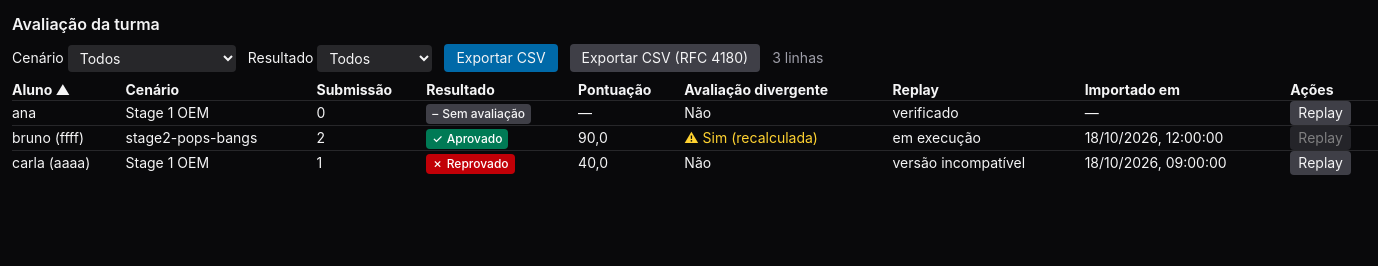
Test: ClassGradeTable — erros › falha no replay aparece sobre a tabela
The image size is (1378, 266).
expect the text "3 linhas" is shown: met, box x1=772 y1=48 x2=823 y2=68
Click the button "Replay" in the row of "ana" at (1321, 113), box x1=1290 y1=101 x2=1351 y2=125
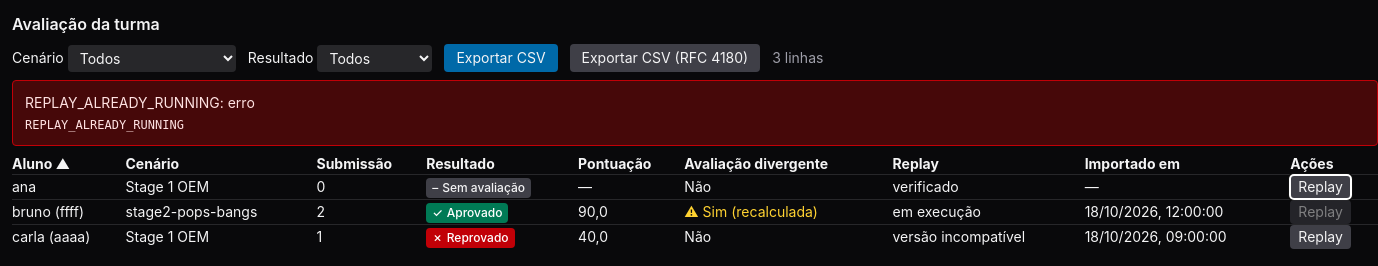
expect the message shows "REPLAY_ALREADY_RUNNING": met, box x1=25 y1=118 x2=184 y2=132
